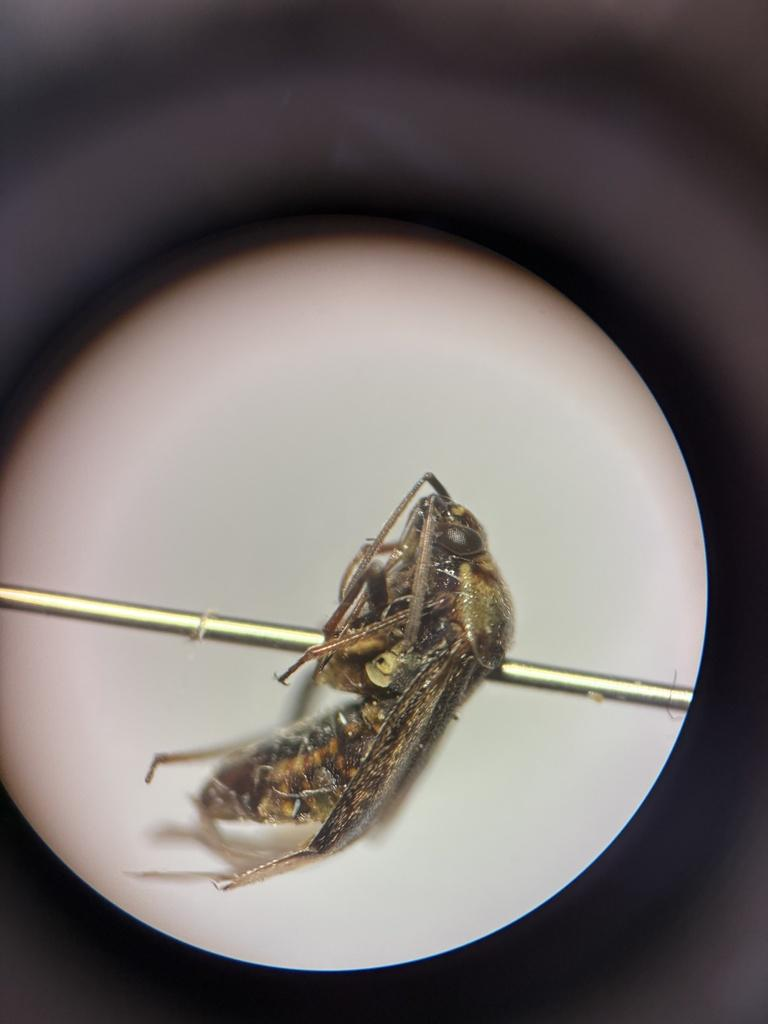plant_bugs: (113, 385, 559, 925)
